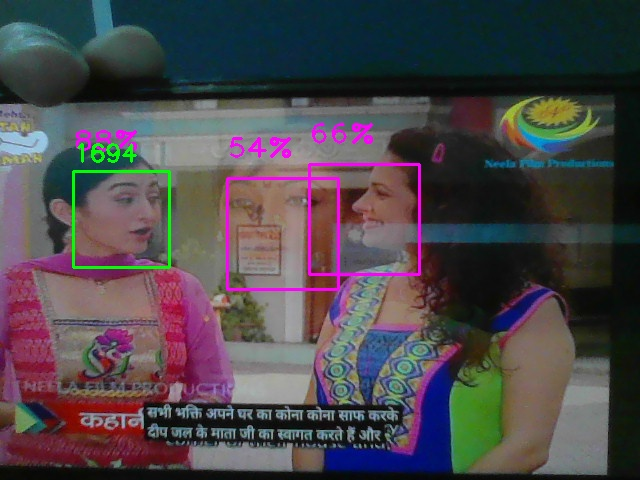fake: (73, 171, 170, 268)
